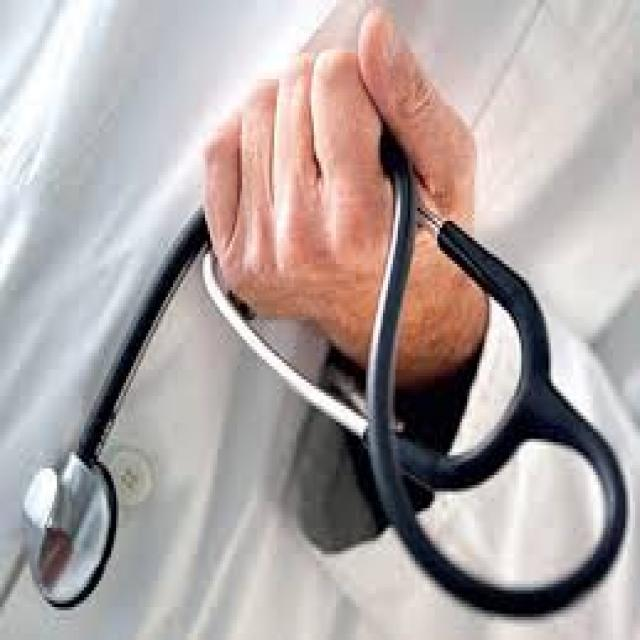stethoscope: (21, 184, 635, 632)
